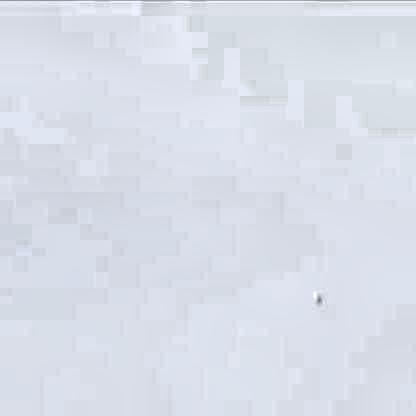golfball: (307, 288, 320, 301)
